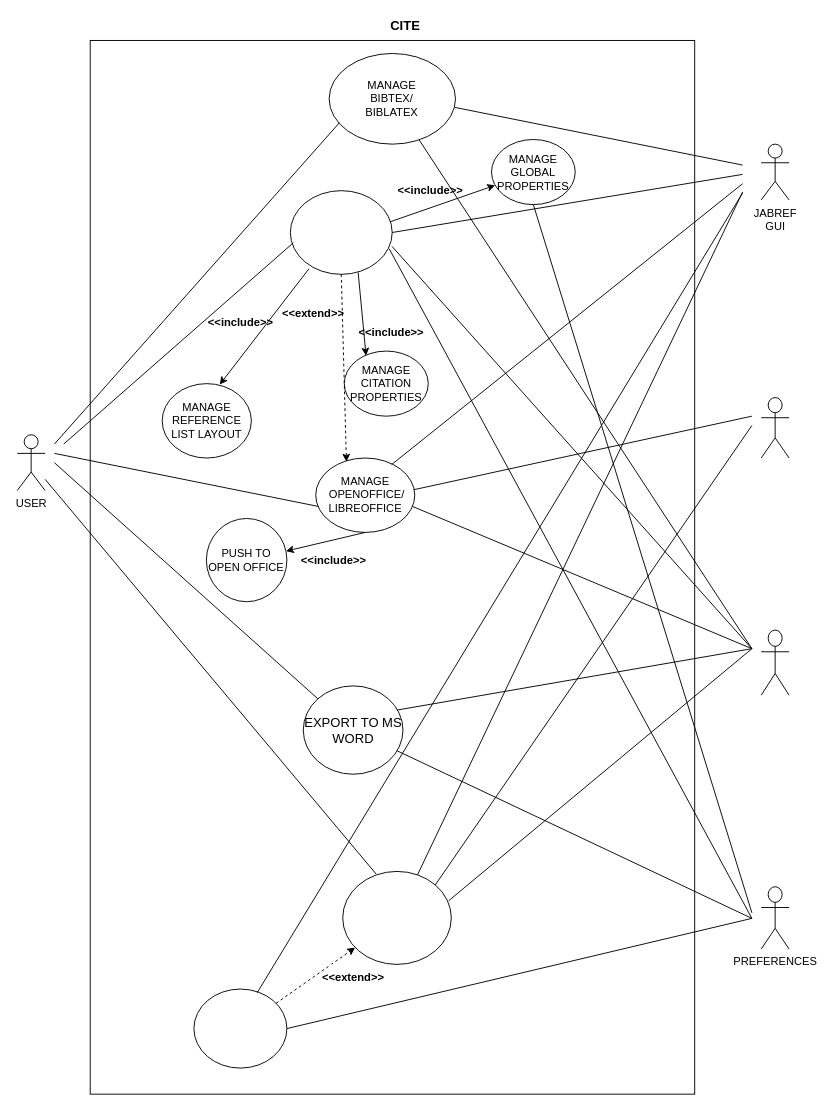
The diagram is 833 pixels wide and 1110 high, and some of its shapes have lost their labels. The centre of each missing label's shape, as x and y in pixels:
"CHOOSE EXTERNAL EDITOR" goes at point 240,1028.
"JABREF LOGIC" goes at point 774,662.
"JABREF MODEL" goes at point 774,427.
"MANAGE STYLE FILE" goes at point 340,232.
"PUSH ENTRIES TO EXTERNAL EDITOR APPLICATION" goes at point 396,917.
